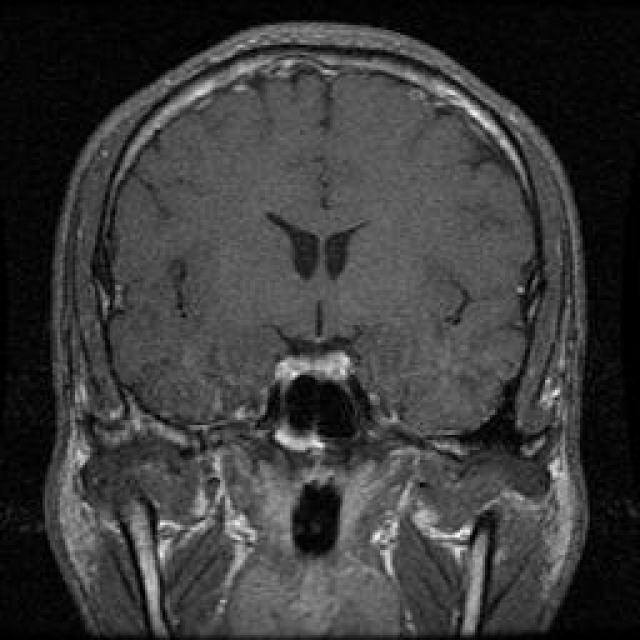pituitary: (258, 327, 384, 480)
